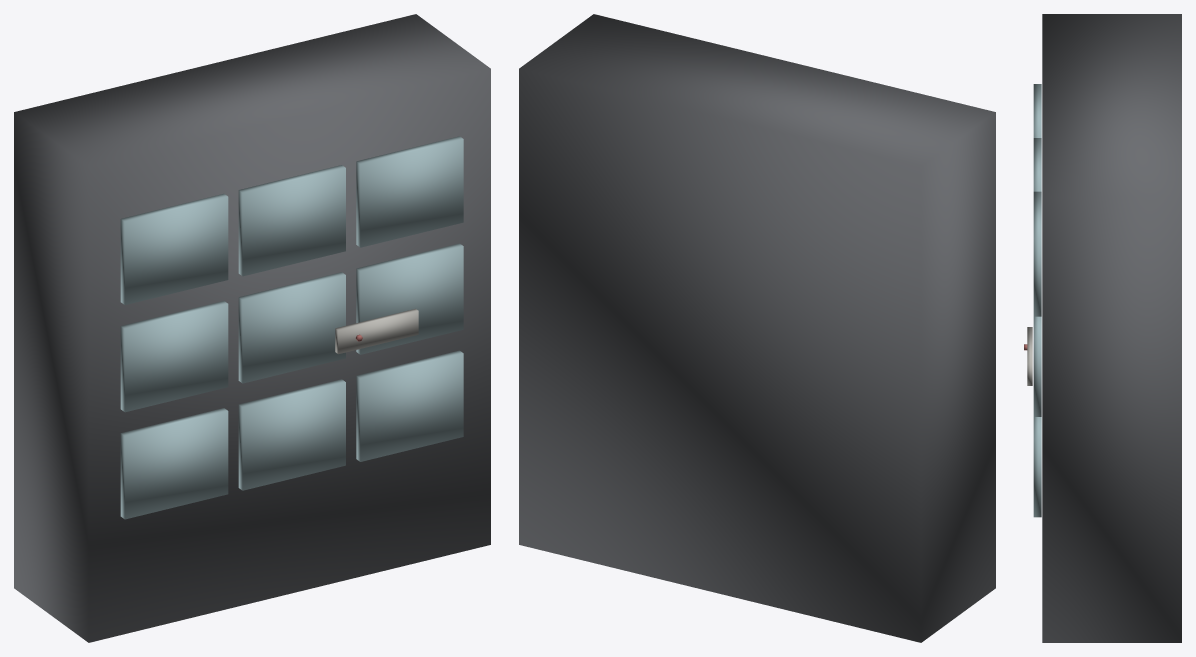
The model's file is security_monitor_bank__reinforced.glb.
3 renders of one model, left to right at view 1: azimuth 30°, elevation 25°; view 2: azimuth 150°, elevation 25°; view 3: azimuth 270°, elevation 25°, orthographic. The views are drawn at different scales.
Parts seen in each view (by area): view 1: world; view 2: world; view 3: world.
Part boxes in pixels (x1,y1,x2,y2): world: (14,14,490,642); world: (519,14,995,642); world: (1024,14,1181,642).
Bounding box in the file's own units: 1.44 × 1.63 × 0.5238.
